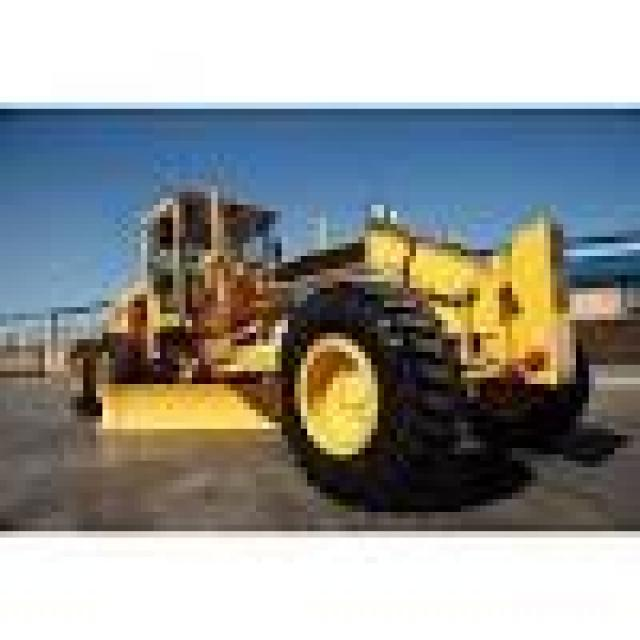Grader: (26, 141, 602, 499)
